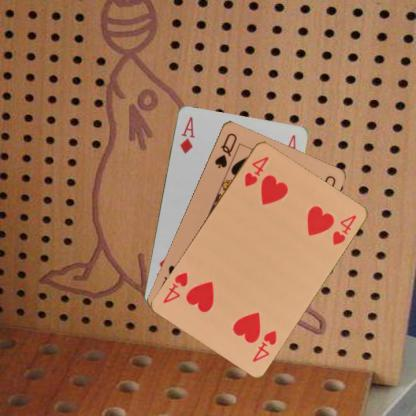4h: (242, 153, 271, 188), (250, 328, 278, 364)
Ad: (177, 114, 196, 155)
Qs: (212, 130, 238, 170)
